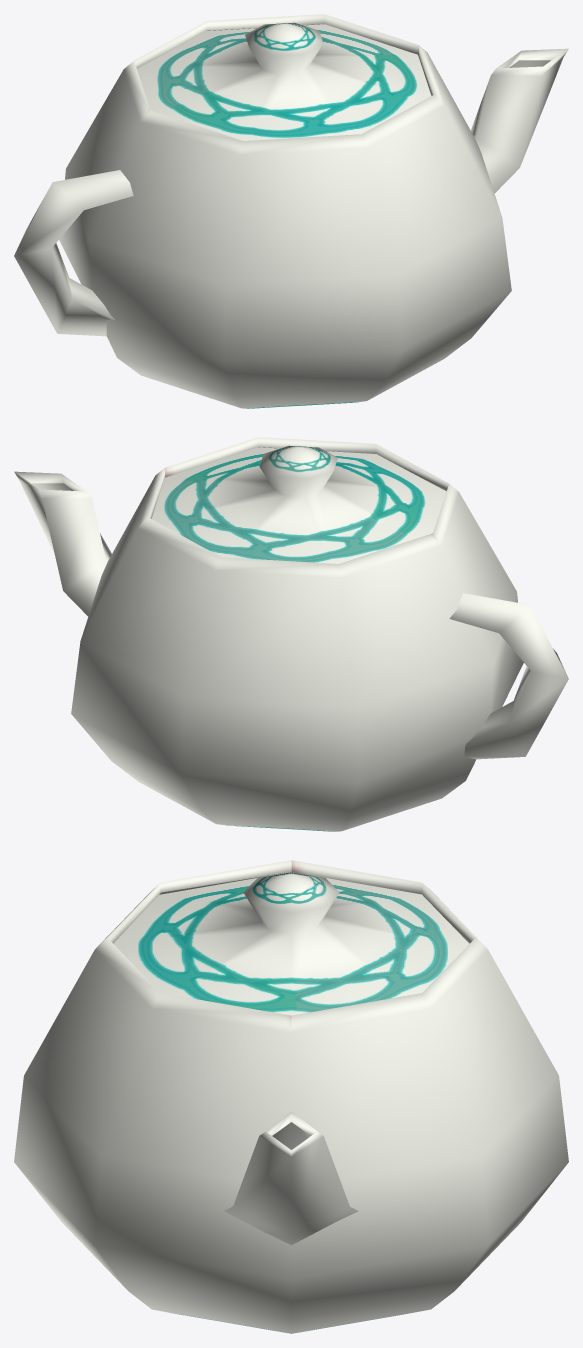
Rendered from Tea_Pot_B.FBX.
The picture shows the model from 3 angles, top to bottom: view 1: azimuth 30°, elevation 25°; view 2: azimuth 150°, elevation 25°; view 3: azimuth 270°, elevation 25°; orthographic projection. The views are drawn at different scales.
Visible parts, largest first — view 1: TeaPot; view 2: TeaPot; view 3: TeaPot.
Boxes of the visible parts, x1,y1,x2,y2 form: TeaPot: (14, 14, 568, 408); TeaPot: (14, 437, 568, 831); TeaPot: (14, 860, 568, 1333).
Size of the model in its own units: 76.31 by 43.49 by 55.6.
